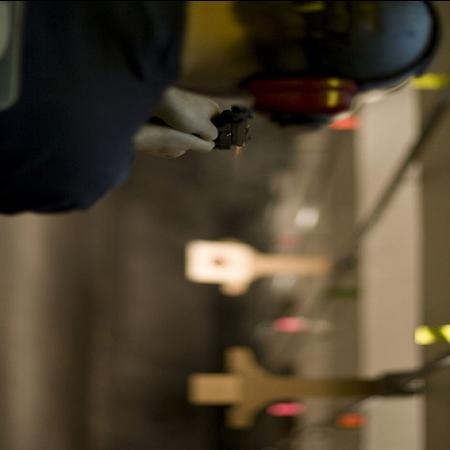Pistol: (144, 106, 255, 150)
